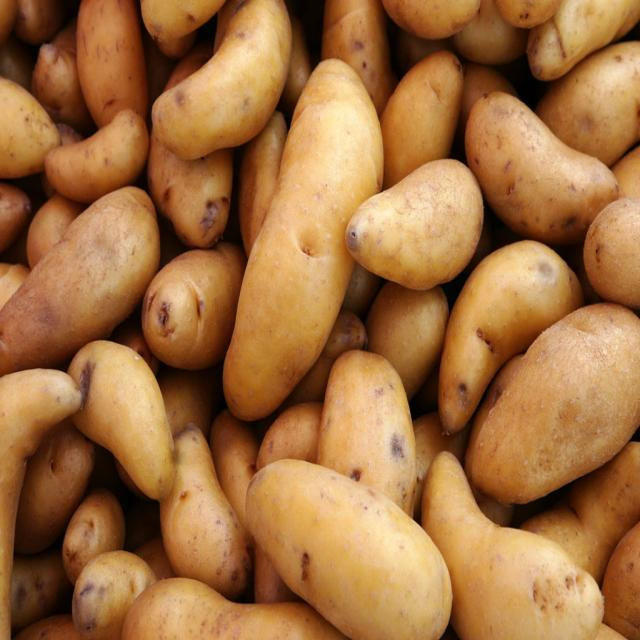Potato: (0, 0, 639, 639), (245, 454, 458, 640), (345, 156, 484, 292)
